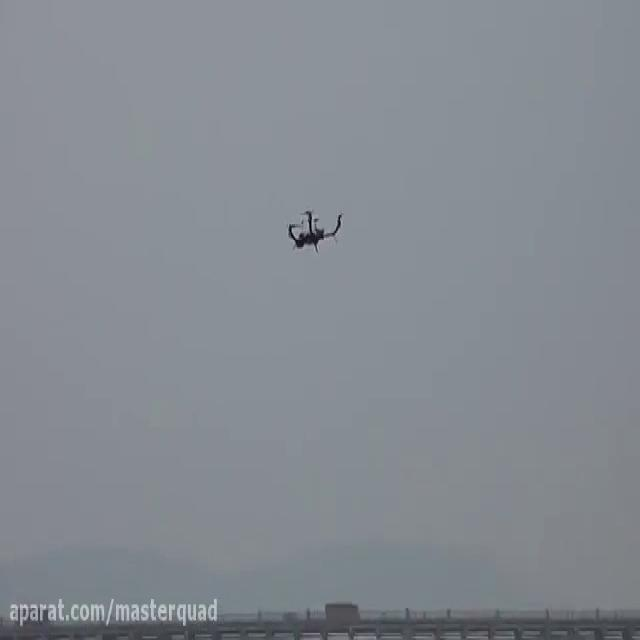drone: (282, 197, 348, 256)
